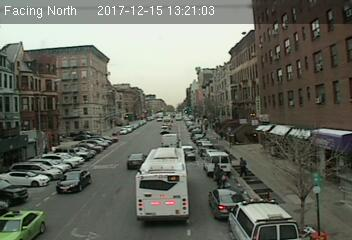bus: (135, 147, 192, 222)
car: (1, 206, 47, 239), (209, 187, 245, 220), (54, 169, 92, 192), (125, 153, 149, 167), (182, 144, 196, 159)
pedestrian: (237, 155, 248, 179), (213, 163, 222, 185)
police: (224, 198, 299, 240)
truck: (205, 152, 231, 175), (161, 134, 180, 148)
